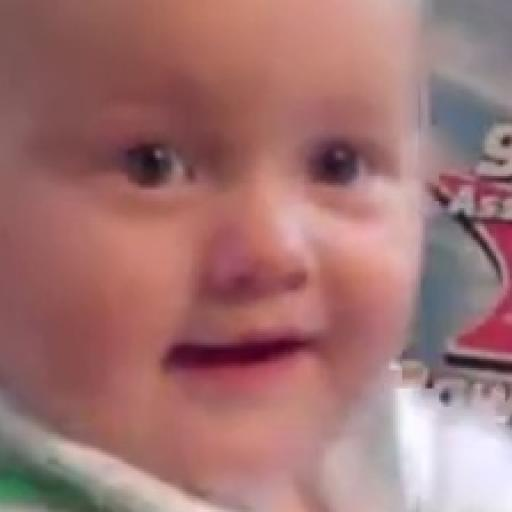Autism: (2, 0, 457, 448)
